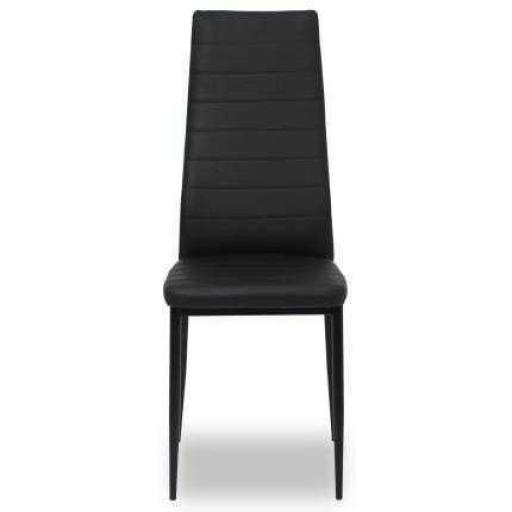chair: (161, 4, 351, 512)
